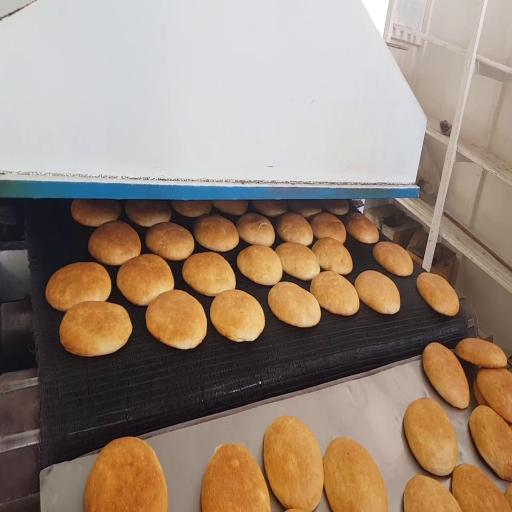bread: (84, 438, 167, 511), (264, 416, 323, 511), (324, 438, 388, 511), (201, 444, 270, 511), (404, 398, 458, 475), (60, 302, 132, 356), (146, 290, 206, 349), (46, 263, 111, 311), (470, 406, 511, 481), (423, 343, 469, 408), (117, 254, 174, 305), (210, 290, 265, 341), (452, 464, 510, 511), (268, 282, 320, 327), (182, 252, 235, 296), (88, 221, 141, 265), (310, 271, 359, 315), (404, 475, 461, 511), (355, 270, 400, 314), (477, 368, 512, 422), (417, 273, 459, 316), (237, 245, 282, 285), (146, 223, 194, 260), (194, 214, 238, 252), (276, 243, 319, 280), (455, 339, 507, 368), (312, 238, 352, 274), (373, 242, 413, 276), (71, 200, 121, 227), (276, 212, 313, 246), (236, 213, 274, 246), (125, 200, 171, 227), (310, 212, 346, 243), (346, 212, 379, 243), (252, 200, 288, 218), (171, 201, 211, 217), (288, 200, 321, 218), (213, 200, 248, 216), (473, 378, 488, 406), (322, 200, 348, 215), (505, 484, 511, 509), (508, 422, 511, 426)
